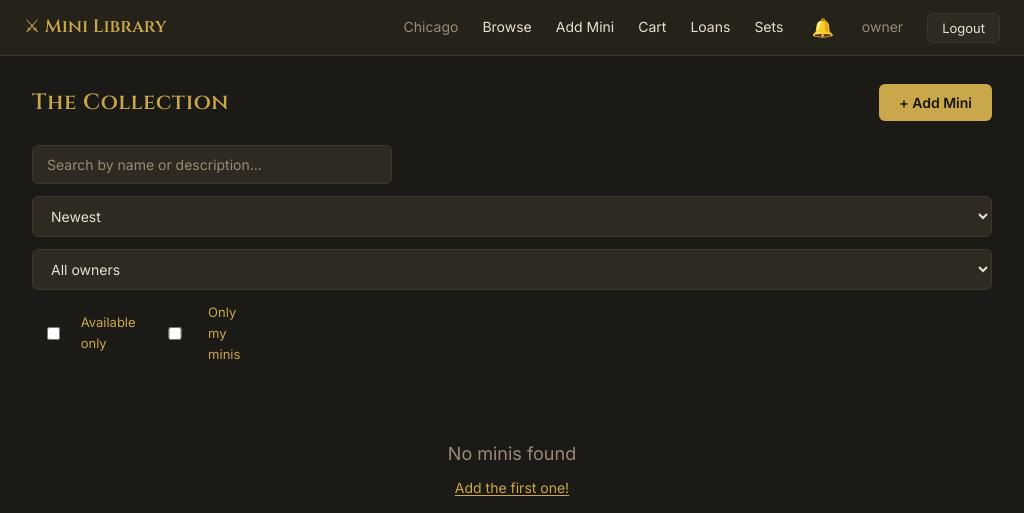
App nav — username link › links to the loans page from the nav
Click the link "Loans" at {"x": 710, "y": 28}, box [690,16,730,39]
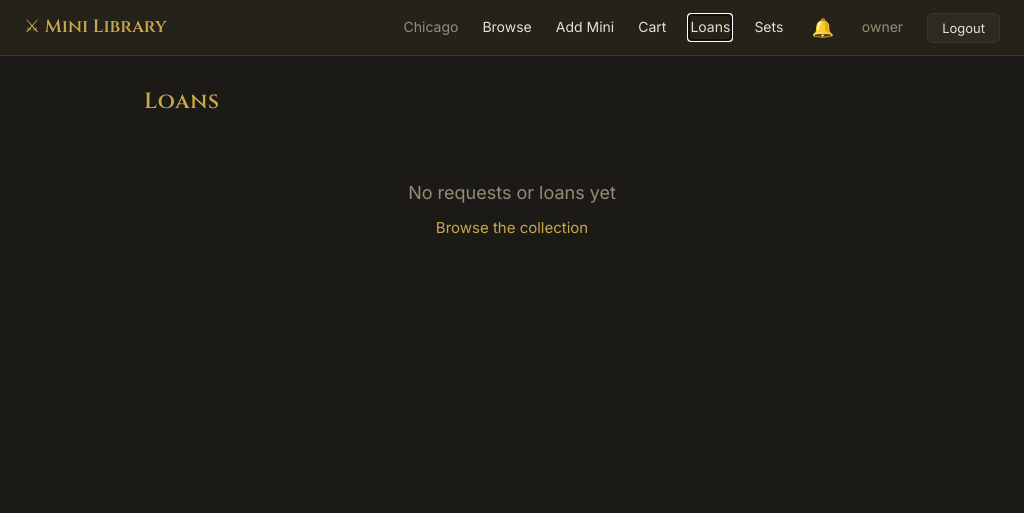
Now the heading "Loans" is shown, box [144,87,220,116]
